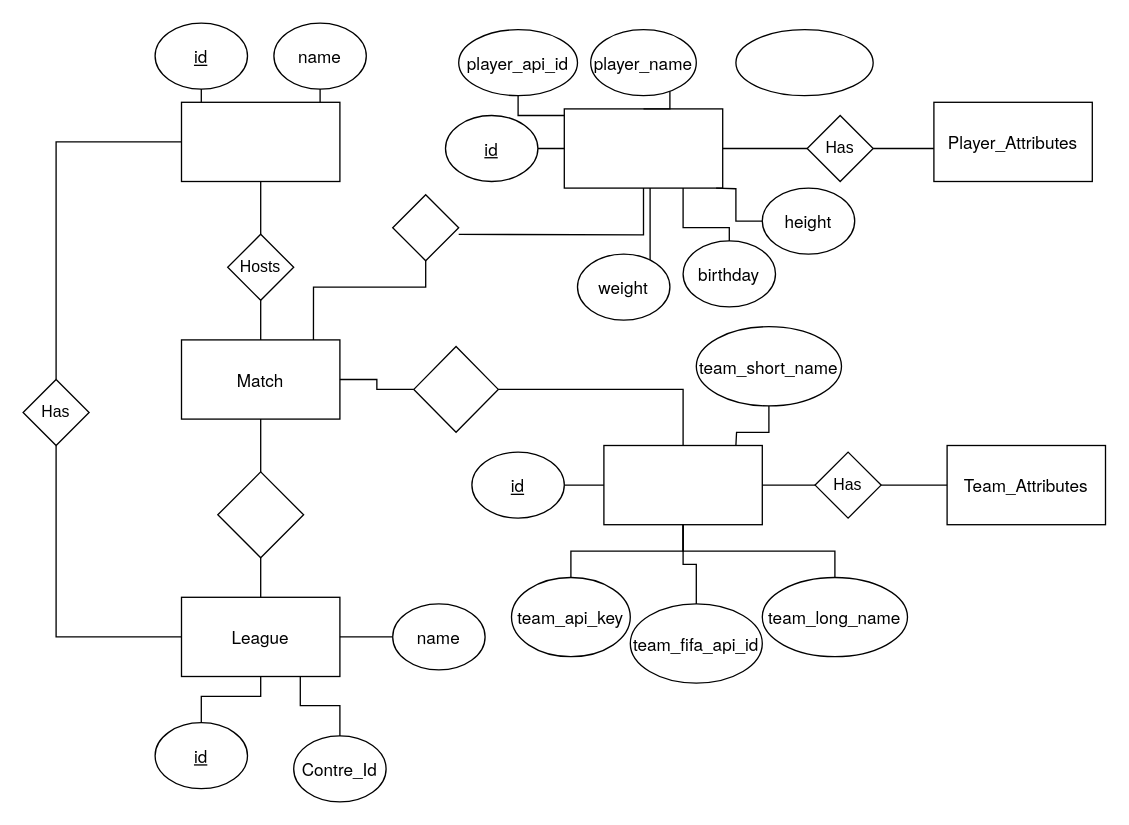
Some shapes in this 1129 by 825 pixel diagram are drawn without their labels. The shapes that lost their labels are listed below. From the top down, each one's box as (x1, y1, x2, y2) in pixels, then its label:
(735, 28, 873, 96): player_fifa_api_id
(180, 101, 340, 182): Country
(563, 108, 723, 188): Player
(391, 193, 459, 261): In
(412, 345, 498, 432): Participate
(603, 444, 762, 525): Team
(216, 471, 304, 558): Organizes
